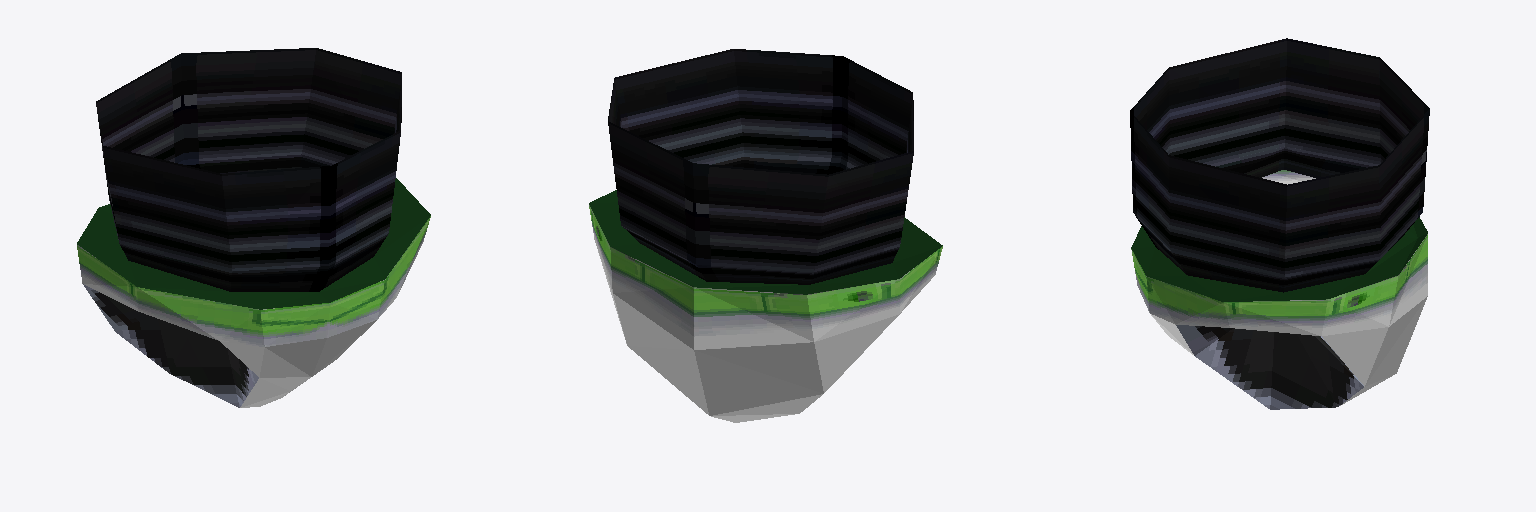
The picture shows the model from 3 angles: view 1: azimuth 30°, elevation 25°; view 2: azimuth 150°, elevation 25°; view 3: azimuth 270°, elevation 25°; orthographic projection.
Parts seen in each view (by area): view 1: buzzlightyHip_buzzlighty.001; view 2: buzzlightyHip_buzzlighty.001; view 3: buzzlightyHip_buzzlighty.001.
Boxes of the visible parts, x1=… form: buzzlightyHip_buzzlighty.001: x1=77, y1=48, x2=430, y2=407; buzzlightyHip_buzzlighty.001: x1=589, y1=49, x2=942, y2=422; buzzlightyHip_buzzlighty.001: x1=1130, y1=38, x2=1429, y2=409.
Size of the model in its own units: 0.1966 by 0.1786 by 0.1643.
1 materials, 1 textured.